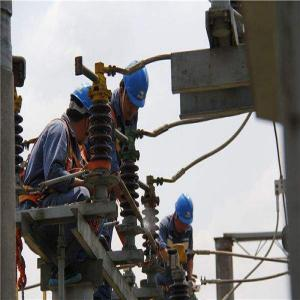blue: (68, 82, 99, 143), (119, 60, 151, 117), (173, 191, 195, 234)
